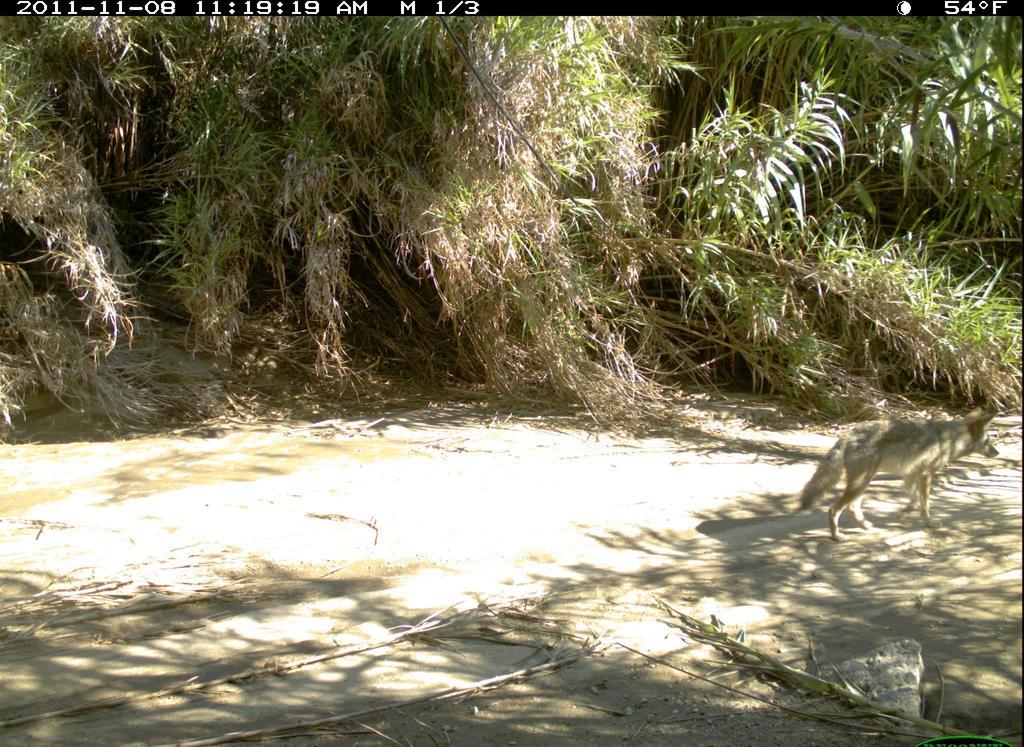coyote: (793, 396, 1012, 551)
